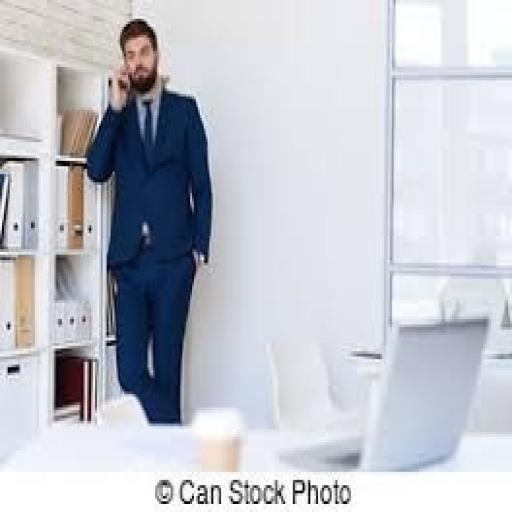calling: (84, 16, 216, 426)
